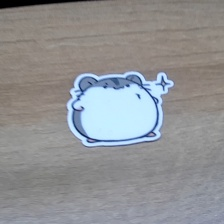mouse: (66, 67, 178, 146)
